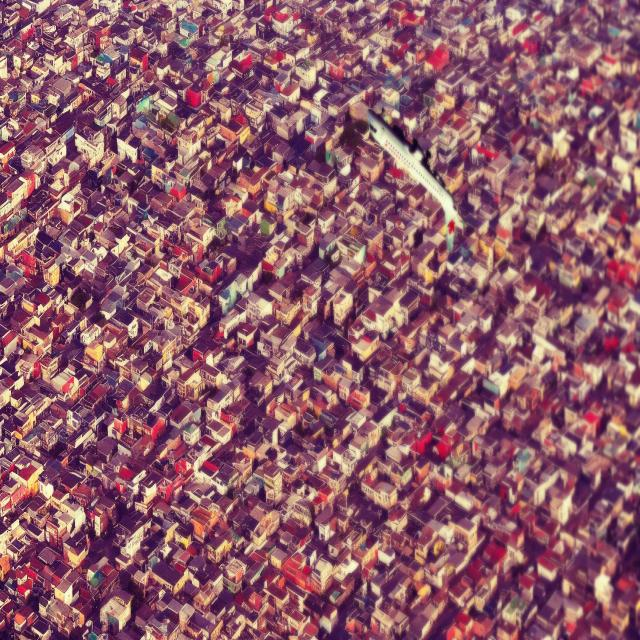airplane: (366, 107, 467, 255)
